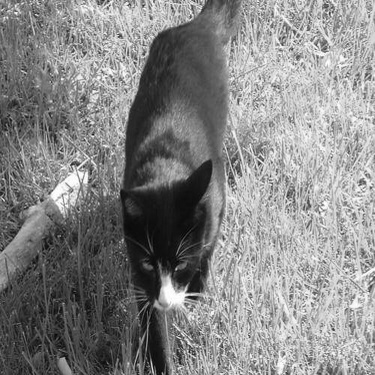cat: (117, 2, 237, 369)
